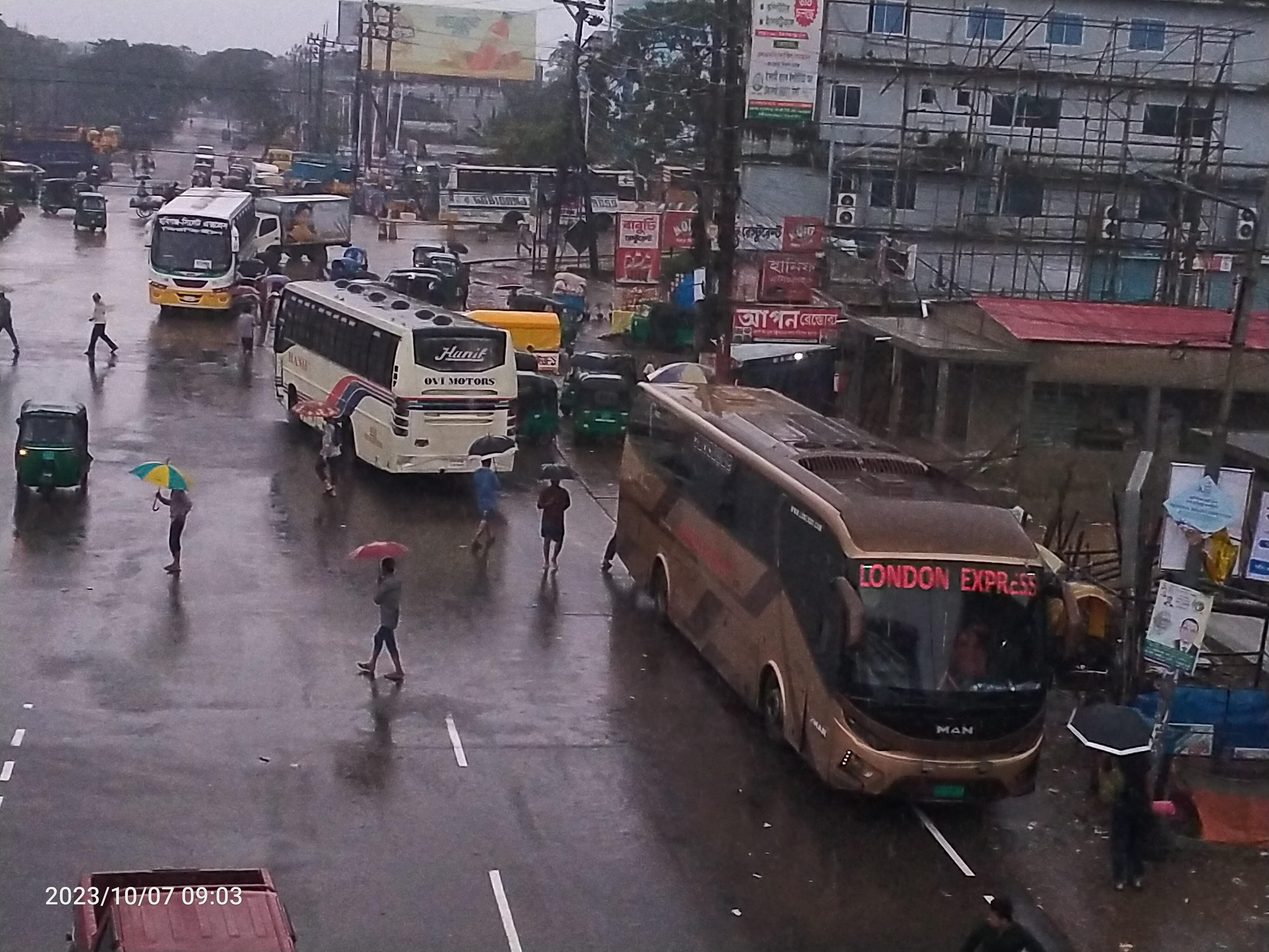Bus: (577, 343, 1088, 844), (242, 249, 553, 523), (121, 154, 269, 343), (434, 142, 681, 249)
Car: (24, 810, 367, 952), (187, 133, 225, 172)
Truck: (251, 175, 373, 288), (0, 113, 119, 182)
